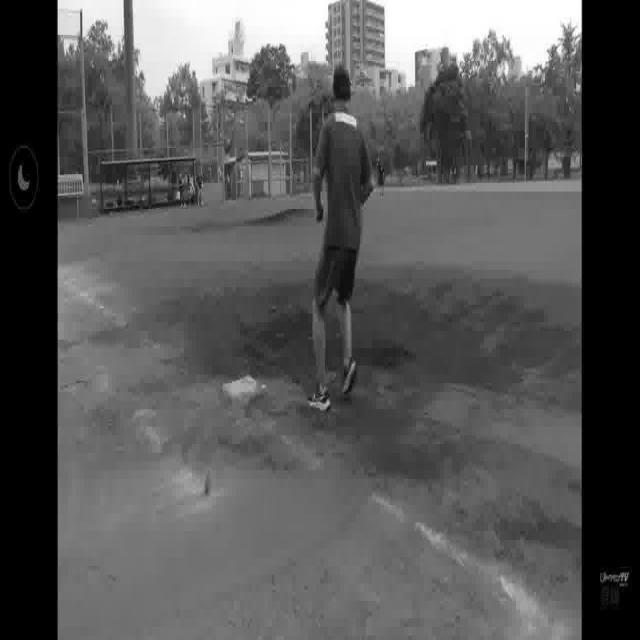base: (220, 370, 269, 404)
shoe: (339, 356, 356, 402), (308, 383, 332, 408)
